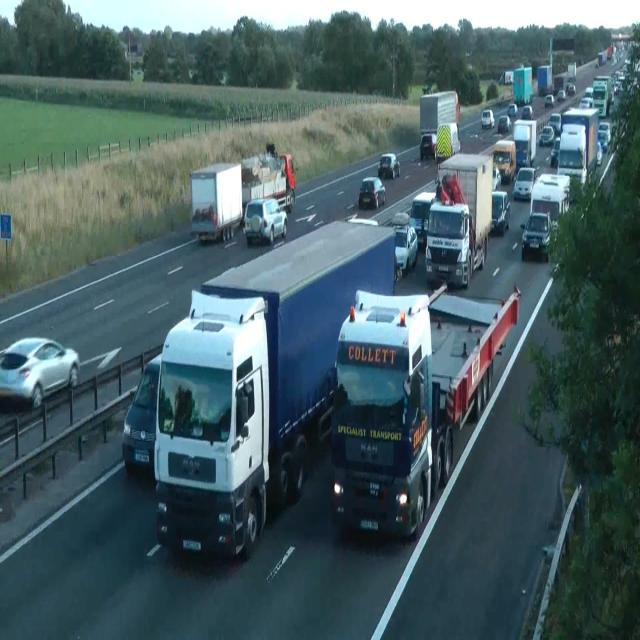bus: (0, 336, 80, 410), (121, 352, 162, 475), (520, 211, 552, 261), (358, 176, 386, 209), (513, 166, 537, 200), (378, 153, 400, 179), (419, 132, 436, 160), (538, 125, 554, 146), (597, 127, 609, 153), (550, 137, 560, 167), (480, 108, 494, 129), (549, 113, 561, 133), (492, 164, 501, 190), (498, 115, 510, 133), (131, 68, 145, 82), (521, 105, 533, 119), (507, 103, 518, 118), (596, 140, 602, 166), (579, 97, 593, 108), (544, 94, 554, 108), (565, 83, 575, 95), (556, 89, 566, 99), (585, 86, 593, 97), (422, 84, 430, 94)
car: (330, 281, 521, 541)
jeep: (243, 197, 287, 244), (392, 221, 418, 275), (490, 189, 510, 235)
minibus: (153, 216, 396, 560), (424, 152, 494, 288), (190, 161, 242, 243), (240, 143, 296, 215), (557, 107, 599, 190), (419, 90, 459, 159), (530, 173, 570, 223), (478, 139, 516, 183), (409, 190, 437, 249), (512, 118, 536, 170), (434, 121, 460, 162), (592, 76, 614, 116), (513, 66, 533, 106), (537, 65, 553, 96), (504, 70, 514, 84), (598, 50, 606, 66), (607, 45, 613, 59)
